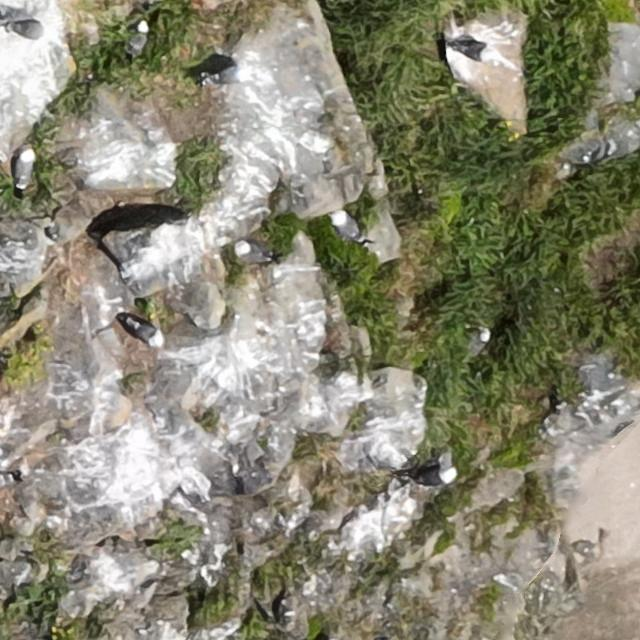umineko: (211, 66, 254, 87), (127, 322, 162, 346), (416, 467, 454, 487), (333, 215, 361, 242), (10, 20, 45, 38), (16, 150, 34, 185), (458, 42, 489, 62), (236, 242, 268, 261), (128, 22, 147, 52), (471, 328, 491, 352)
